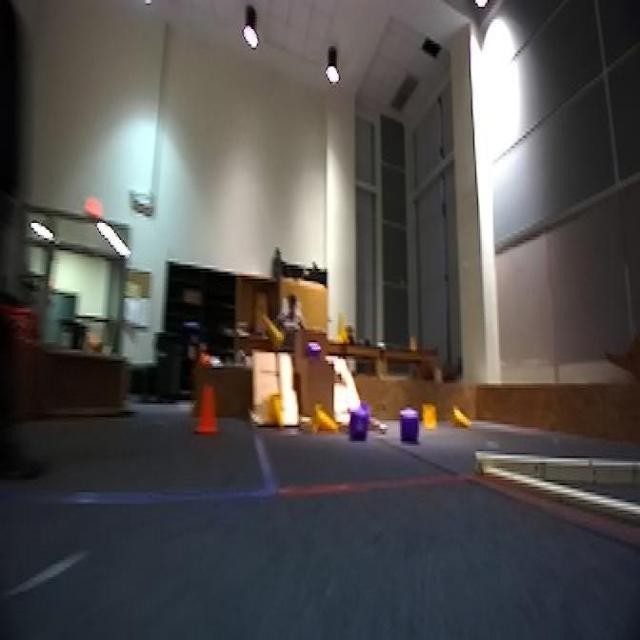frc_cone: (258, 308, 283, 356), (312, 405, 338, 434), (268, 392, 286, 432), (448, 406, 475, 431), (334, 313, 349, 349), (422, 398, 438, 431)
frc_cube: (350, 408, 370, 438), (401, 415, 417, 441), (306, 342, 324, 363)
